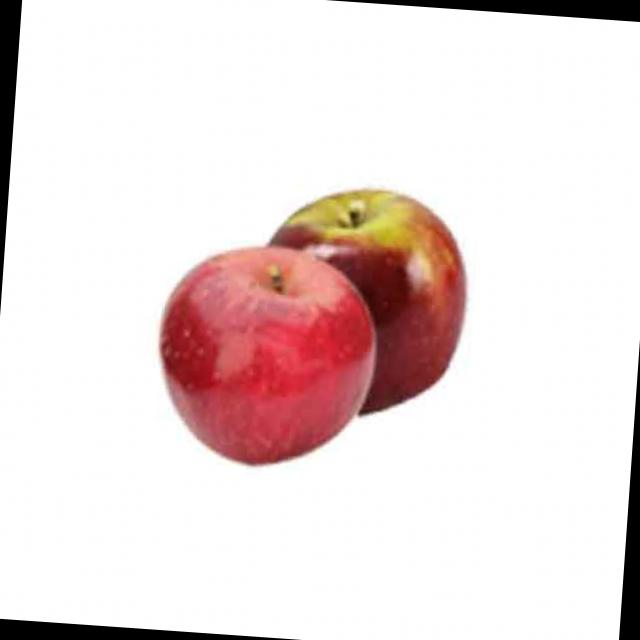apple: (244, 178, 472, 428), (148, 238, 381, 481)
